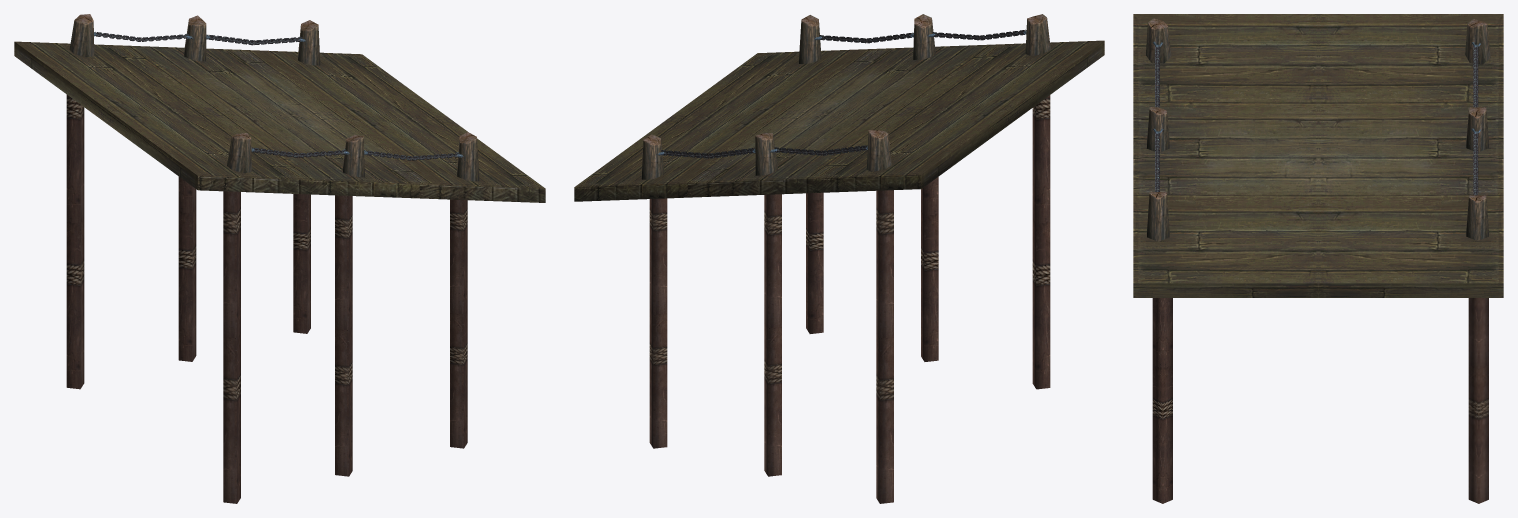
File: hean_shuizhai_43.fbx
3 views of the same model, side by side, from view 1: azimuth 30°, elevation 25°; view 2: azimuth 150°, elevation 25°; view 3: azimuth 270°, elevation 25° (orthographic).
Parts seen in each view (by area): view 1: hean_shuizhai_43_01_muban, hean_shuizhai_43_01_buzhuzi, hean_shuizhai_43_03, hean_shuizhai_43_02; view 2: hean_shuizhai_43_01_muban, hean_shuizhai_43_01_buzhuzi, hean_shuizhai_43_02, hean_shuizhai_43_03; view 3: hean_shuizhai_43_01_muban, hean_shuizhai_43_01_buzhuzi, hean_shuizhai_43_03, hean_shuizhai_43_02.
Boxes of the visible parts, x1=… form: hean_shuizhai_43_01_muban: x1=14, y1=41, x2=545, y2=202; hean_shuizhai_43_01_buzhuzi: x1=66, y1=94, x2=467, y2=503; hean_shuizhai_43_03: x1=69, y1=14, x2=320, y2=65; hean_shuizhai_43_02: x1=227, y1=132, x2=479, y2=181; hean_shuizhai_43_01_muban: x1=574, y1=40, x2=1104, y2=201; hean_shuizhai_43_01_buzhuzi: x1=649, y1=95, x2=1050, y2=503; hean_shuizhai_43_02: x1=799, y1=14, x2=1050, y2=63; hean_shuizhai_43_03: x1=641, y1=130, x2=891, y2=179; hean_shuizhai_43_01_muban: x1=1133, y1=14, x2=1503, y2=297; hean_shuizhai_43_01_buzhuzi: x1=1152, y1=298, x2=1488, y2=503; hean_shuizhai_43_03: x1=1465, y1=19, x2=1490, y2=240; hean_shuizhai_43_02: x1=1146, y1=18, x2=1171, y2=241.
Size of what is drawn, in the model's own units: 1328 by 1340 by 1214.
